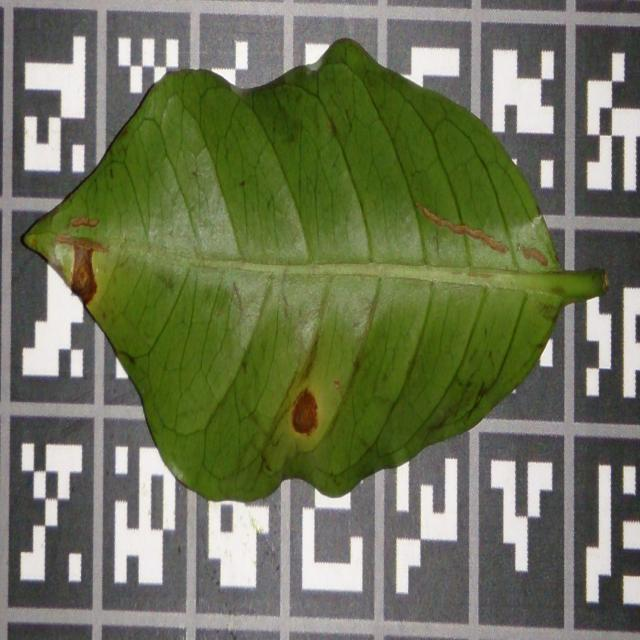Enfermedad-Mancha-de-hierro: (21, 39, 599, 506)
